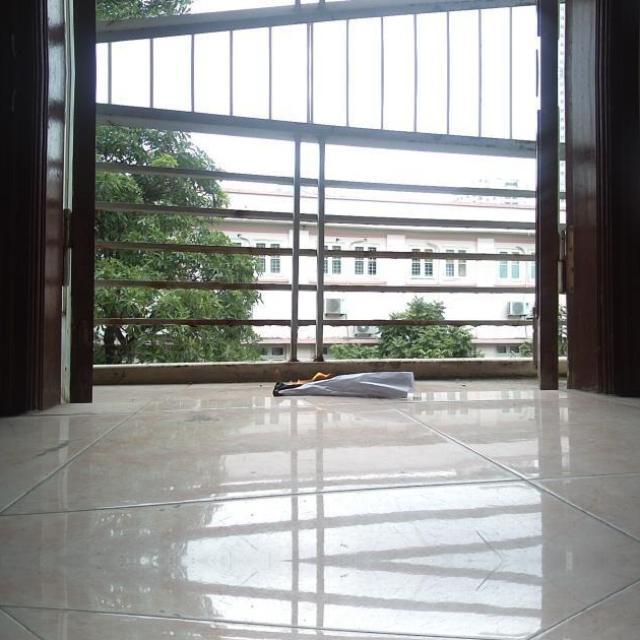smoke: (272, 368, 330, 392)
